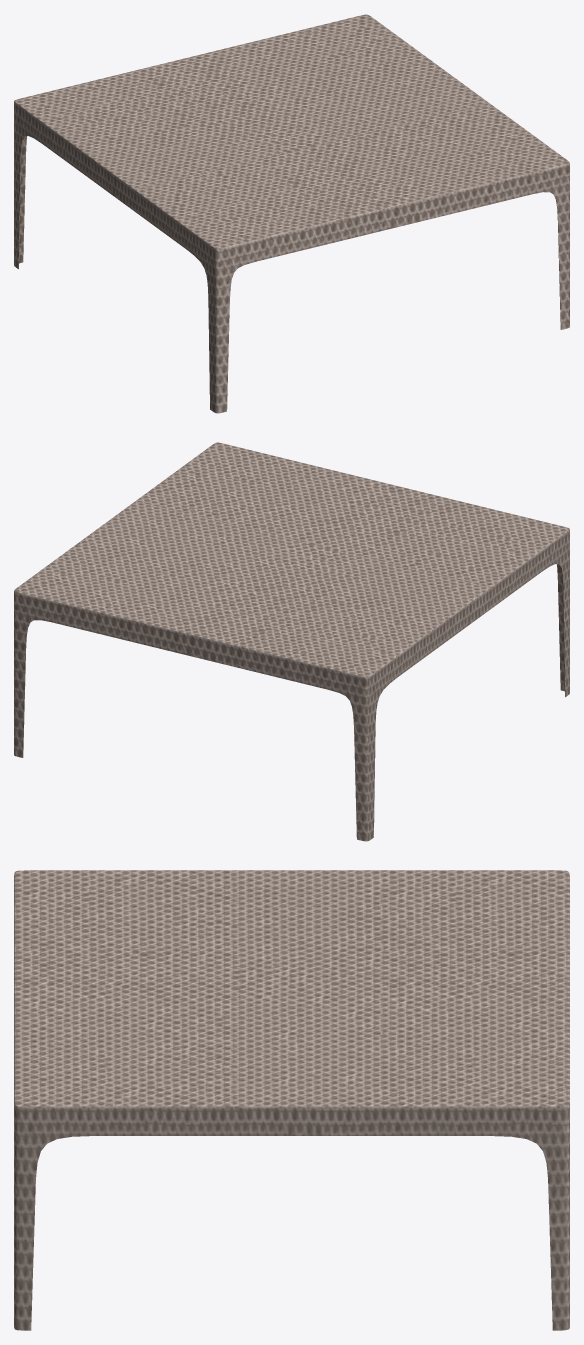
The model's file is 3_d7b7be7a-5ed6-419e-8d47-cfa909735db7.obj.
3 renders of one model, top to bottom at view 1: azimuth 30°, elevation 25°; view 2: azimuth 150°, elevation 25°; view 3: azimuth 270°, elevation 25°, orthographic. The views are drawn at different scales.
Size of the model in its own units: 1.17 by 0.518 by 1.16.
Materials: 1 (1 with a texture image).
